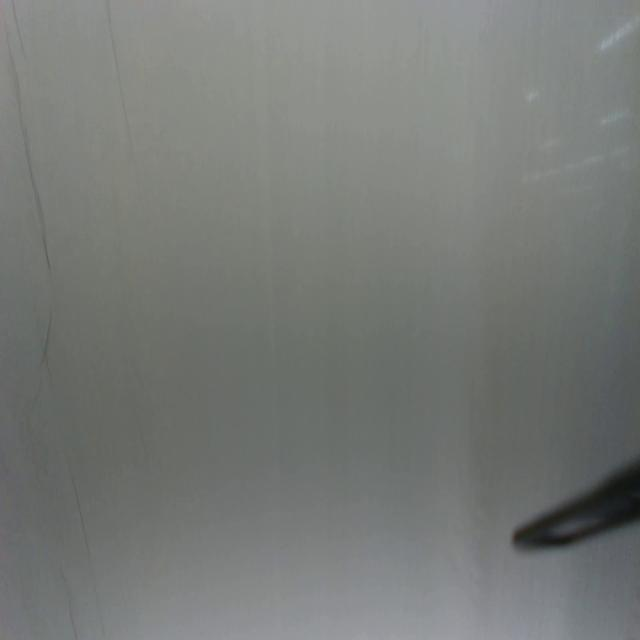crease: (31, 288, 92, 566), (6, 26, 51, 266), (104, 0, 134, 146), (60, 564, 79, 640), (10, 0, 29, 57)
